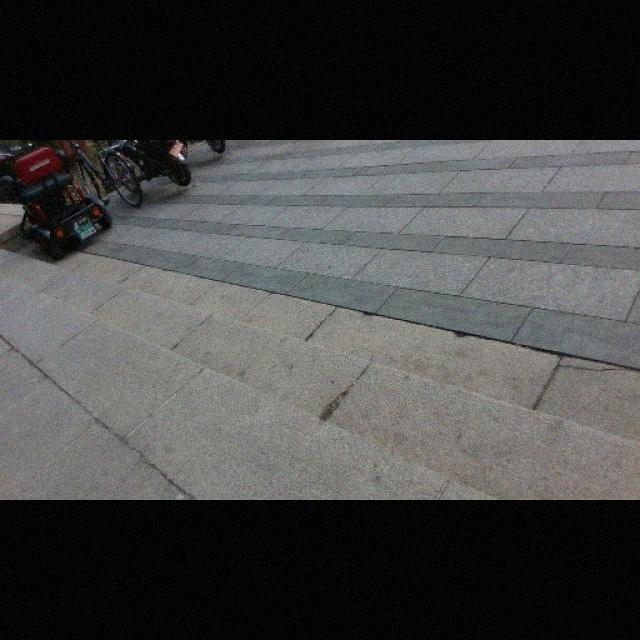stair: (3, 263, 608, 495)
